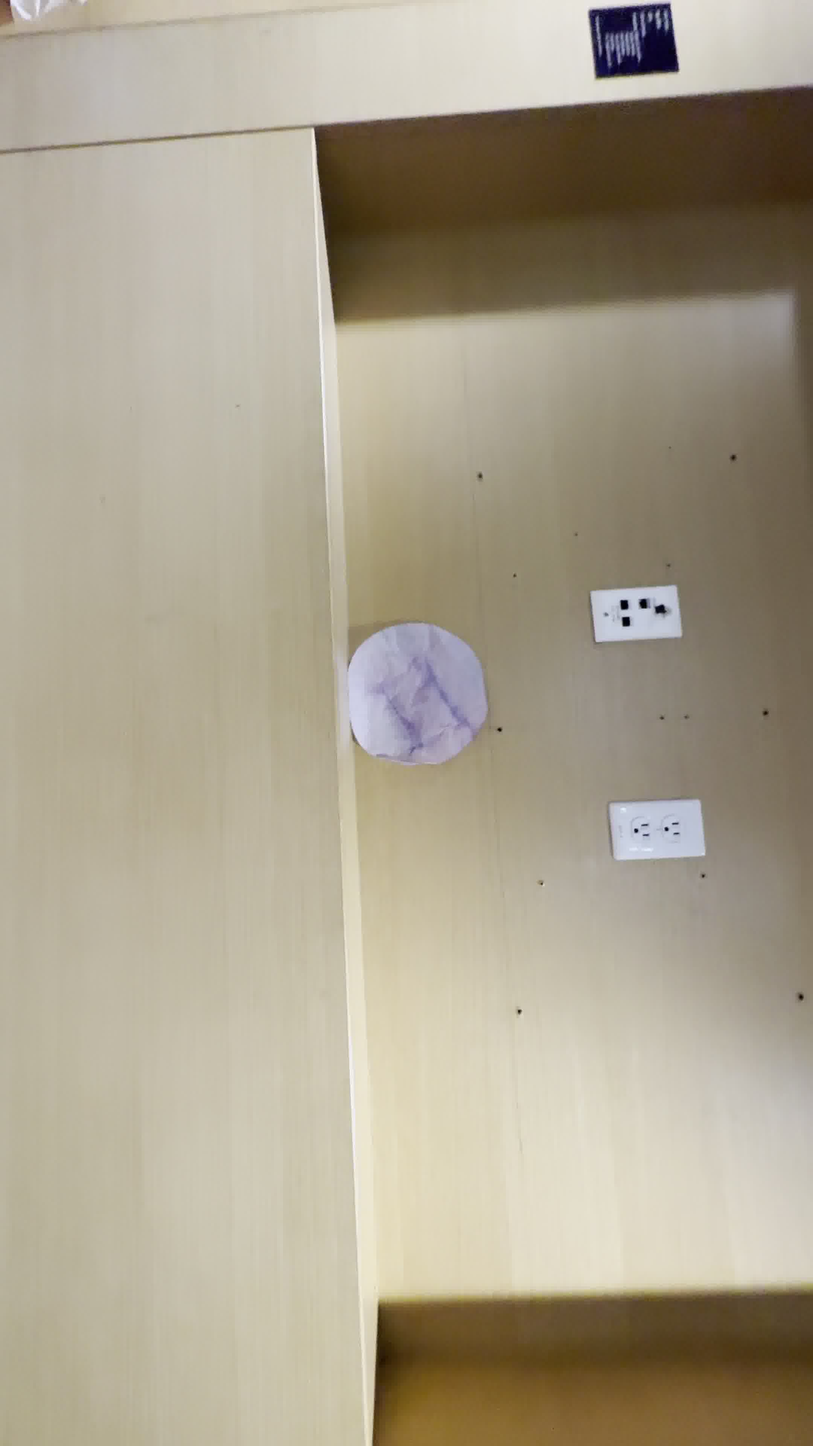Target: (347, 626, 486, 766)
